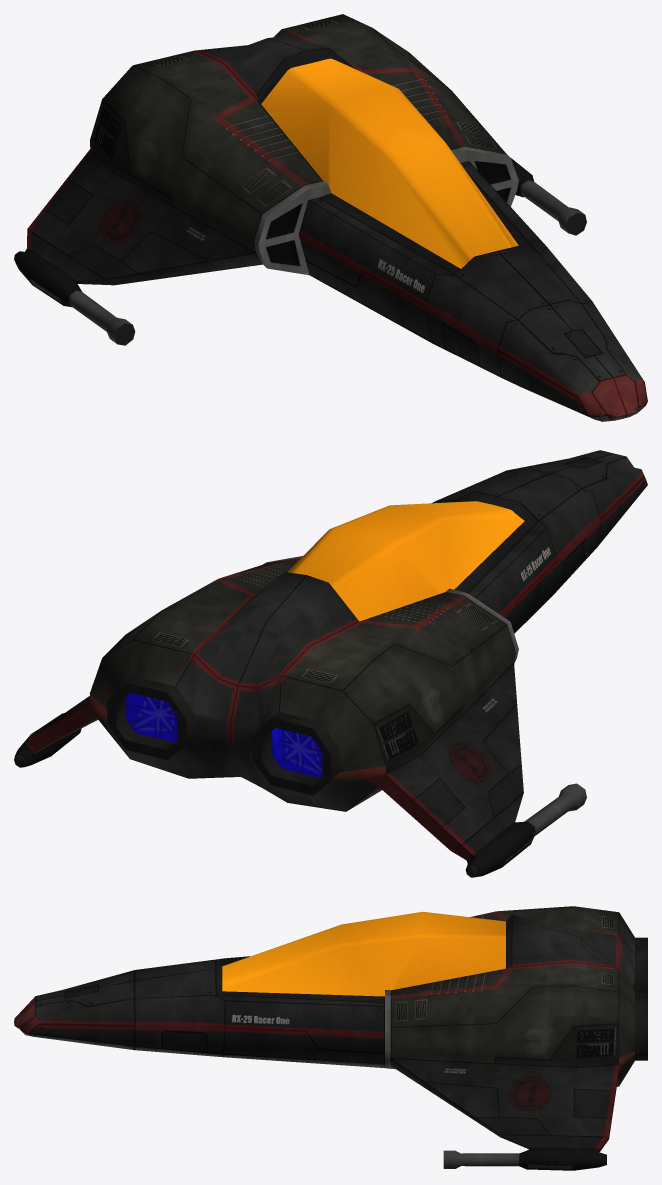
The model's file is new-ship.obj.
The picture shows the model from 3 angles, top to bottom: view 1: azimuth 30°, elevation 25°; view 2: azimuth 150°, elevation 25°; view 3: azimuth 270°, elevation 25°; orthographic projection. The views are drawn at different scales.
Parts seen in each view (by area): view 1: Mesh; view 2: Mesh; view 3: Mesh.
Boxes of the visible parts, x1,y1,x2,y2 form: Mesh: [14, 14, 647, 421]; Mesh: [14, 450, 647, 877]; Mesh: [14, 906, 647, 1170].
Bounding box in the file's own units: 3.81 × 1.61 × 5.65.
